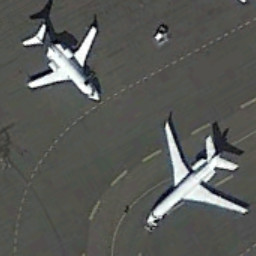Airplane: (138, 117, 255, 246), (12, 16, 115, 112)
